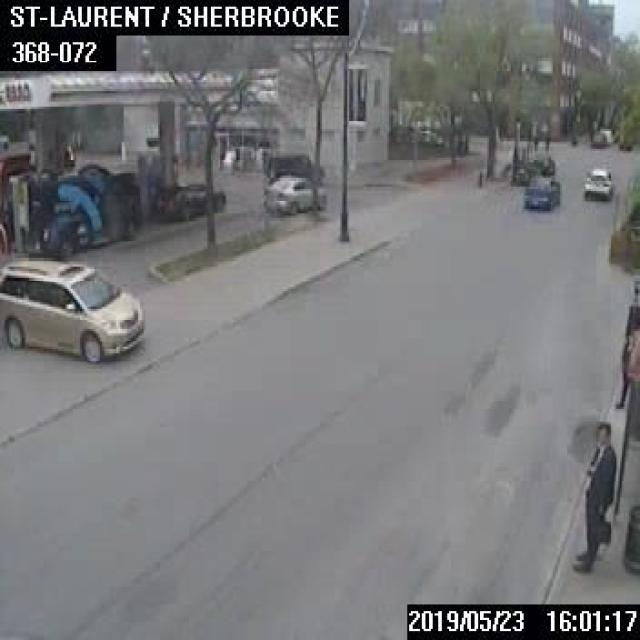pedestrian: (571, 420, 616, 571), (614, 315, 638, 404), (625, 277, 638, 319)
vehicle: (0, 253, 145, 362), (24, 173, 140, 253), (262, 174, 325, 212), (156, 181, 224, 215), (265, 152, 323, 183), (523, 173, 560, 209), (582, 166, 611, 197), (508, 159, 537, 181), (530, 152, 554, 174), (590, 131, 605, 146)
